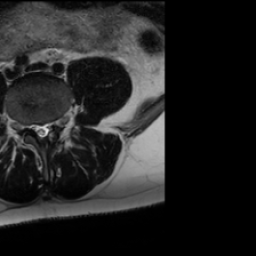CCS_severe_stenosis: (39, 117, 44, 145)
LFS_stenosis: (50, 112, 59, 132)
LLS_normal: (44, 117, 51, 138)
RFS_severe_stenosis: (24, 117, 31, 134)
RLS_normal: (32, 118, 39, 138)
